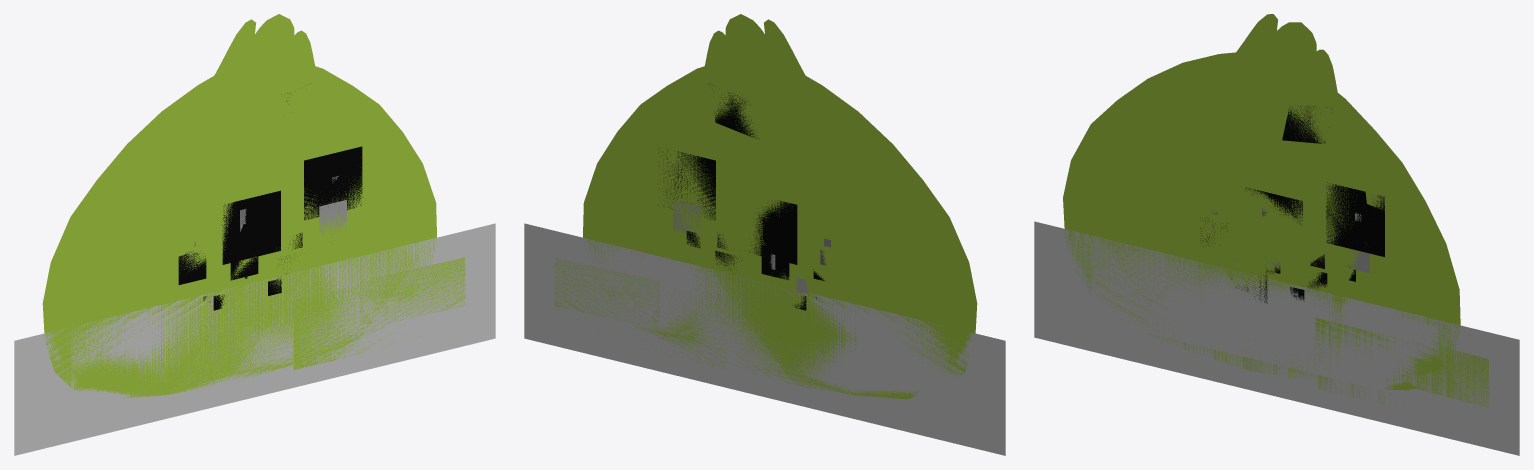
Rendered from Skeleton Prefab Mesh _Eb_KingSlime_01_.glb.
The picture shows the model from 3 angles, left to right: view 1: azimuth 30°, elevation 25°; view 2: azimuth 150°, elevation 25°; view 3: azimuth 330°, elevation 25°; orthographic projection.
Parts seen in each view (by area): view 1: Skeleton Prefab Mesh "Eb_KingSlime_01"; view 2: Skeleton Prefab Mesh "Eb_KingSlime_01"; view 3: Skeleton Prefab Mesh "Eb_KingSlime_01".
Part boxes in pixels (x1,y1,x2,y2): Skeleton Prefab Mesh "Eb_KingSlime_01": [14, 14, 495, 455]; Skeleton Prefab Mesh "Eb_KingSlime_01": [524, 14, 1005, 455]; Skeleton Prefab Mesh "Eb_KingSlime_01": [1034, 14, 1519, 455].
Bounding box in the file's own units: 5.03 × 3.78 × 0.
